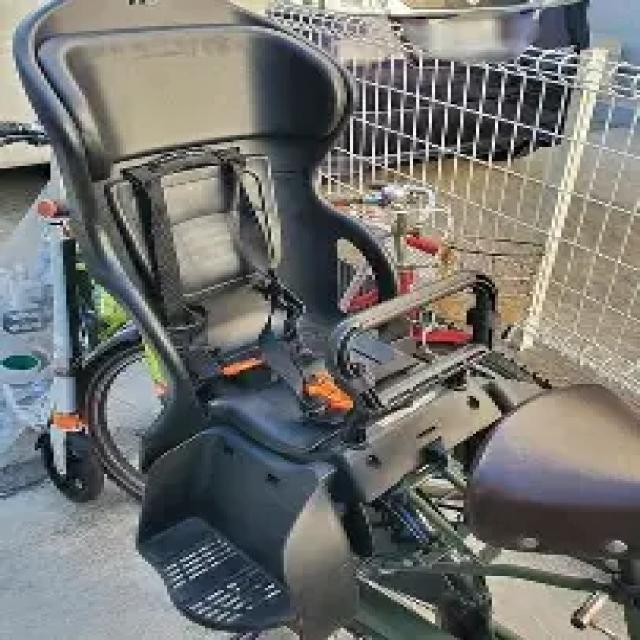childseat: (6, 0, 517, 621)
